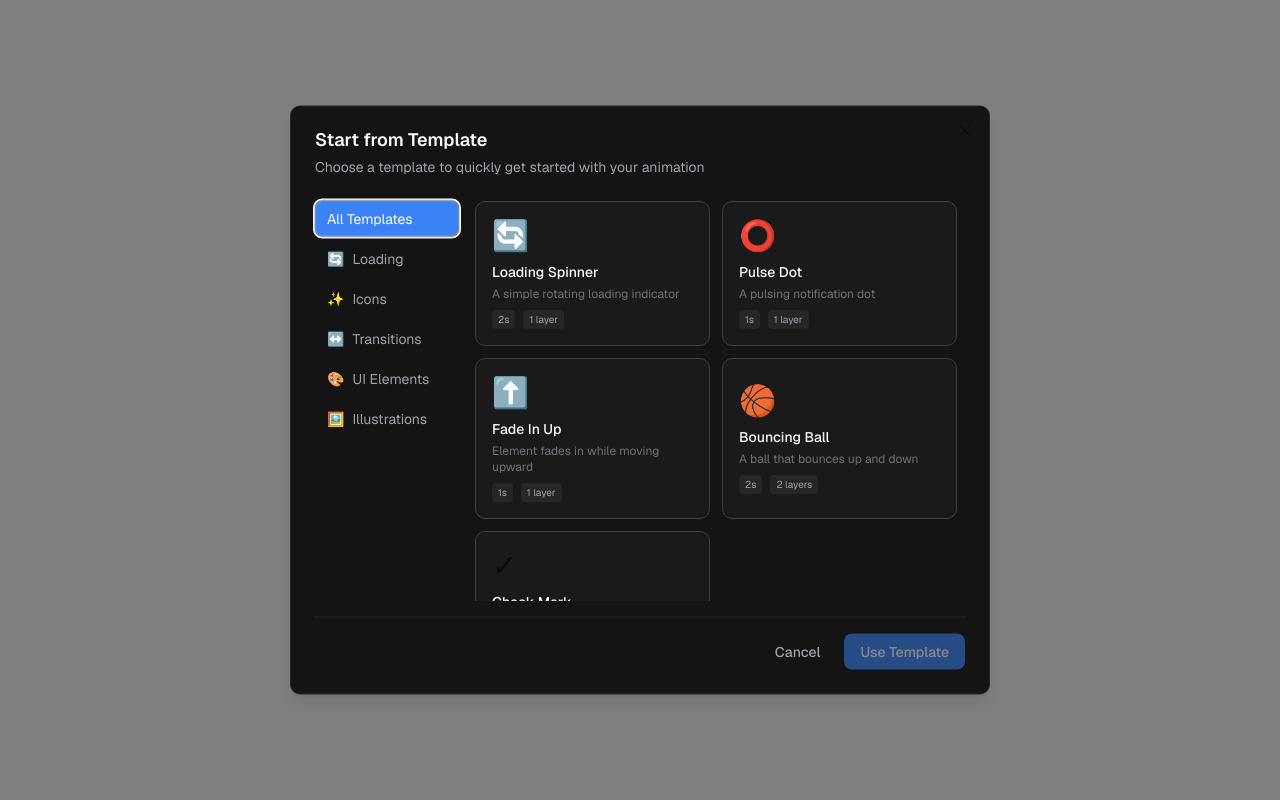
Test: TemplatePicker › filters templates when category is selected
Click the text "Loading": (378, 258) [352,248,404,268]
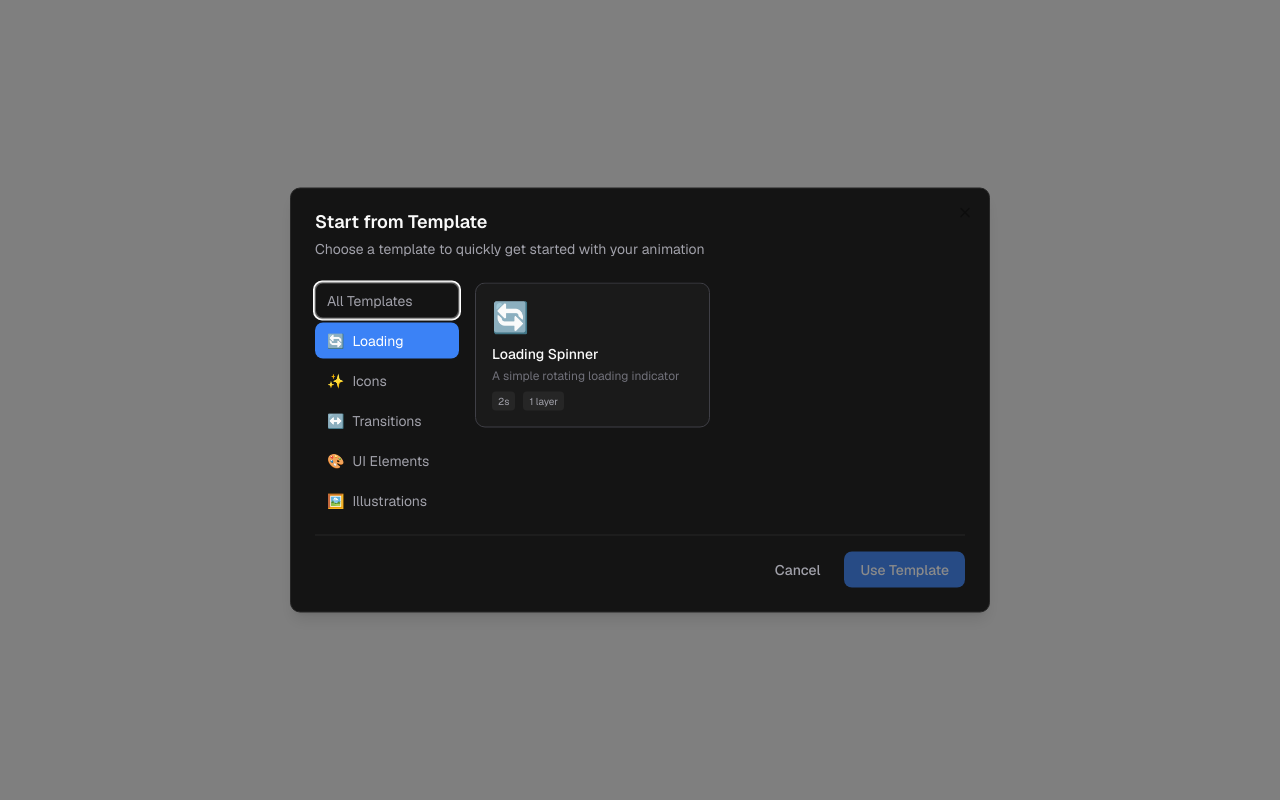
Expected: the heading "Loading Spinner" is shown, [492,344,598,362]
Expected: the button "Pulse Dot" is gone
Expected: the button "Fade In Up" is gone
